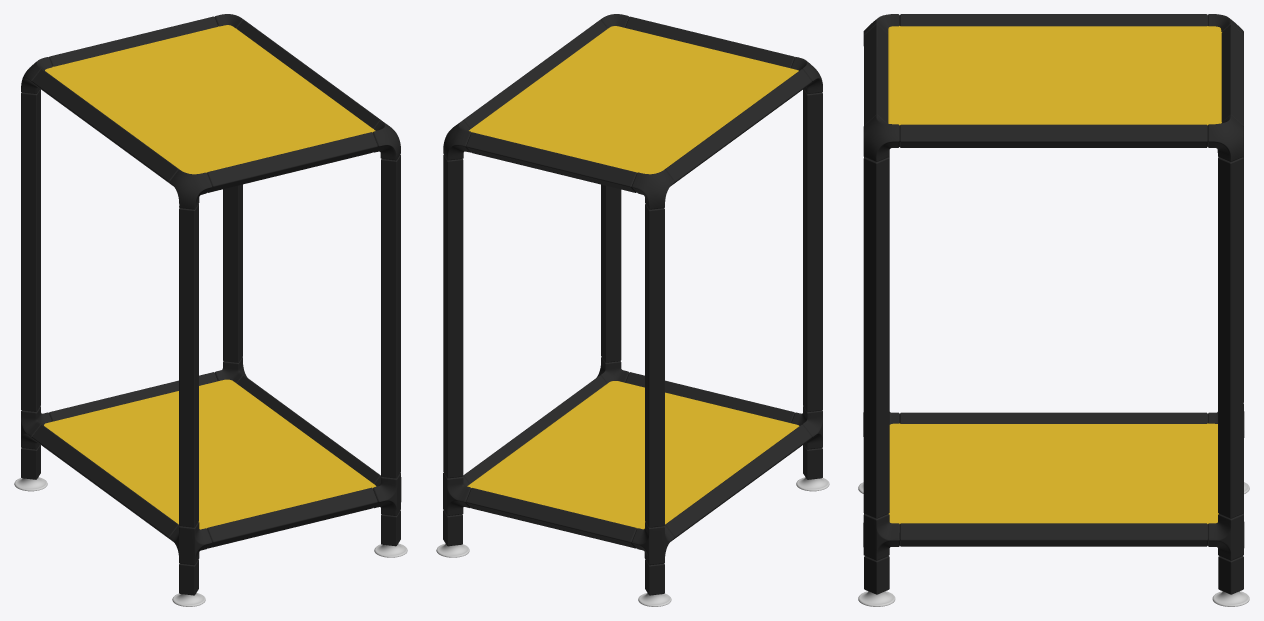
3 views of the same model, side by side, from view 1: azimuth 30°, elevation 25°; view 2: azimuth 150°, elevation 25°; view 3: azimuth 270°, elevation 25° (orthographic). The views are drawn at different scales.
Parts seen in each view (by area): view 1: 229x329x420; view 2: 229x329x420; view 3: 229x329x420.
Boxes of the visible parts, x1,y1,x2,y2 form: 229x329x420: (14,14,407,606); 229x329x420: (436,14,829,606); 229x329x420: (858,14,1249,606).
Bounding box in the file's own units: 0.3189 × 0.5593 × 0.4182.
